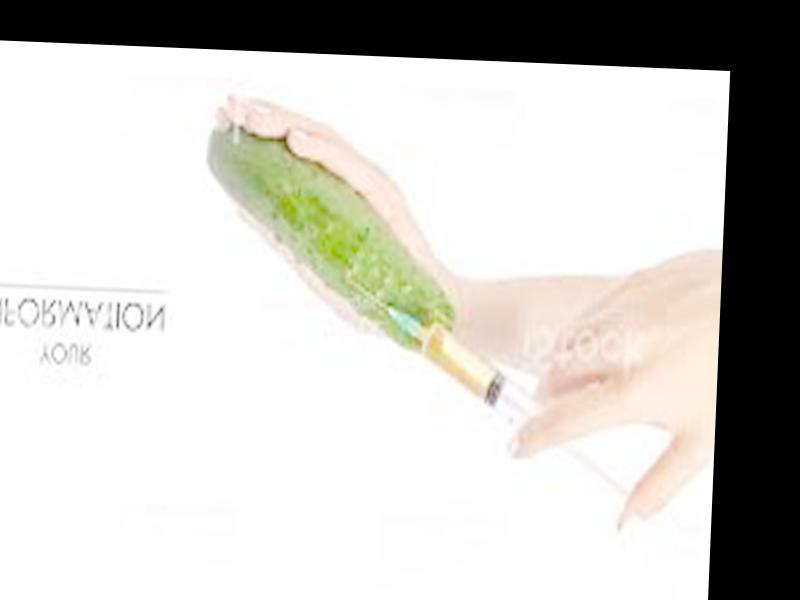Cucumber: (201, 127, 461, 359)
